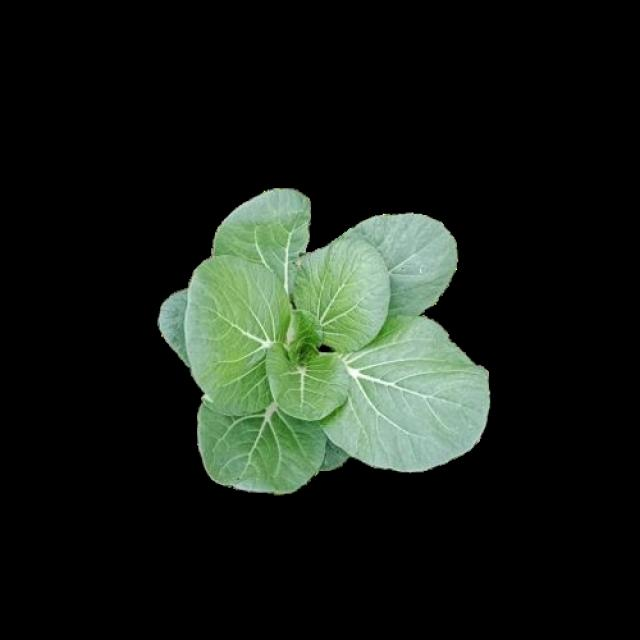healthy: (156, 187, 486, 491)
not-mature: (159, 190, 489, 494)
